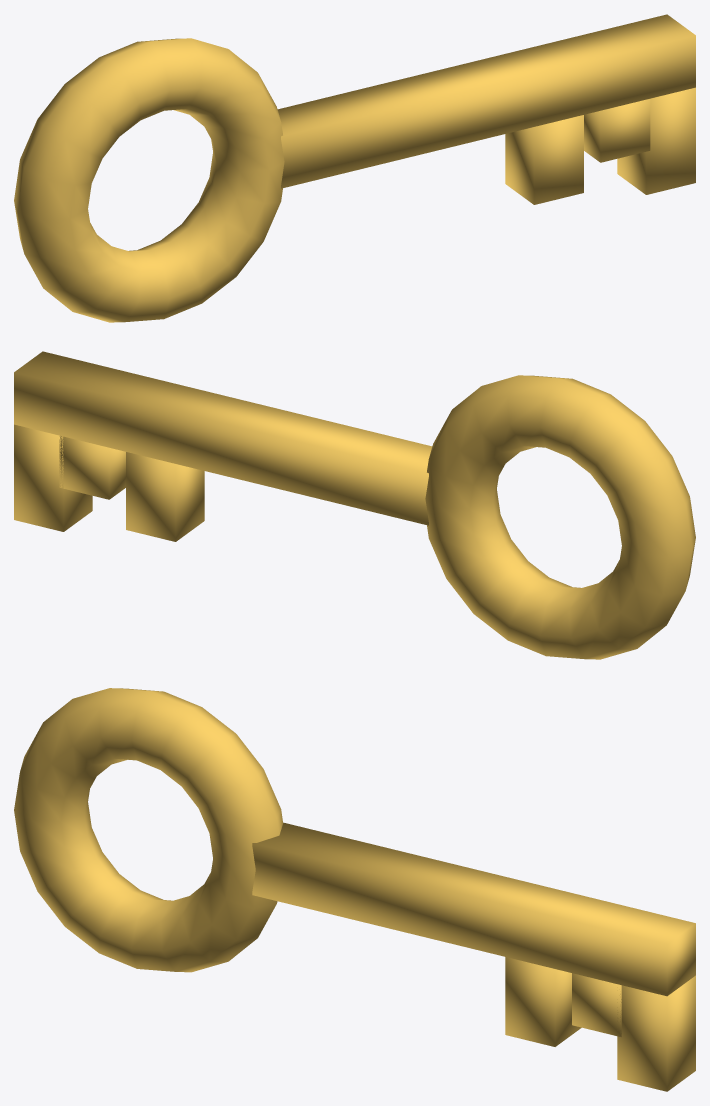
File: key.glb
3 views of the same model, one above another, from view 1: azimuth 30°, elevation 25°; view 2: azimuth 150°, elevation 25°; view 3: azimuth 330°, elevation 25° (orthographic).
Parts seen in each view (by area): view 1: key; view 2: key; view 3: key.
Boxes of the visible parts, left/top/right/bottom form: key: left=14, top=14, right=695, bottom=322; key: left=14, top=351, right=695, bottom=659; key: left=14, top=688, right=695, bottom=1091.
Size of the model in its own units: 0.08 by 0.032 by 0.008.
